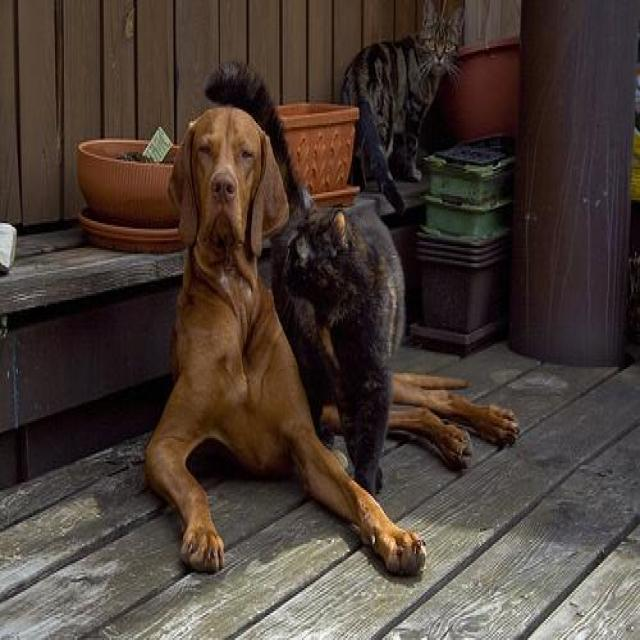vizsla: (143, 106, 514, 576)
